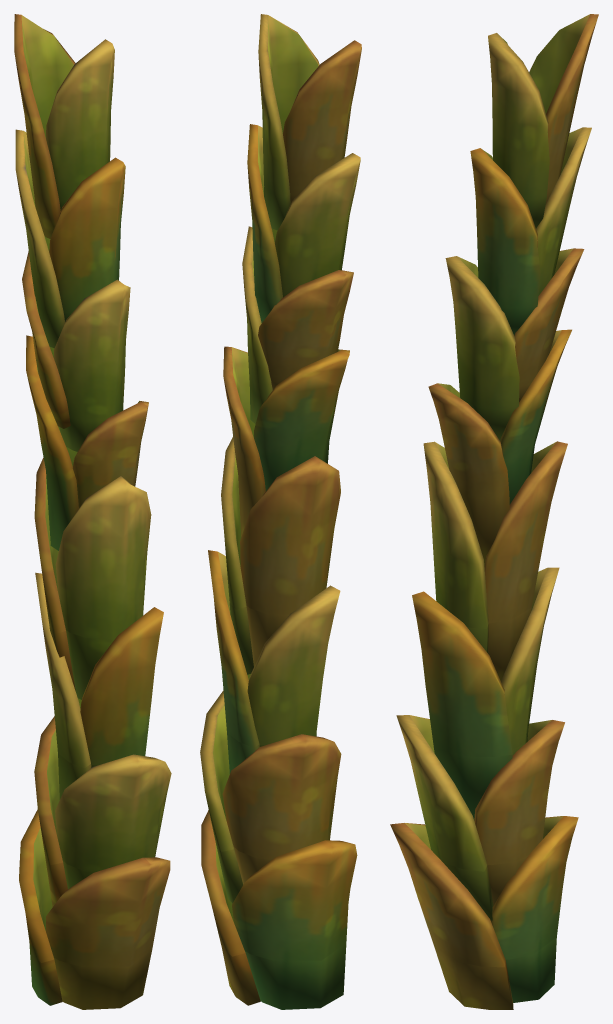
The model's file is Beach_tree_06.fbx.
3 renders of one model, left to right at view 1: azimuth 30°, elevation 25°; view 2: azimuth 210°, elevation 25°; view 3: azimuth 270°, elevation 25°, orthographic. The views are drawn at different scales.
Visible parts, largest first — view 1: Beach_tree_06; view 2: Beach_tree_06; view 3: Beach_tree_06.
Part boxes in pixels (left/top/right/bottom): Beach_tree_06: left=14, top=14, right=171, bottom=1009; Beach_tree_06: left=200, top=14, right=361, bottom=1009; Beach_tree_06: left=390, top=14, right=598, bottom=1009.
Bounding box in the file's own units: 42.33 × 298 × 58.59.
